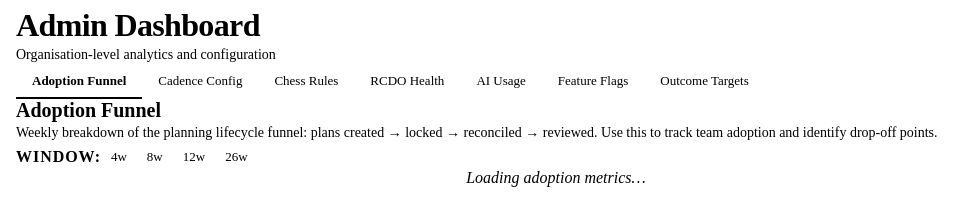
Test case: AdminDashboardPage › shows chess loading state while fetching
Click the tab with test id "admin-tab-chess" at point(306, 81), box [258,63,354,99]
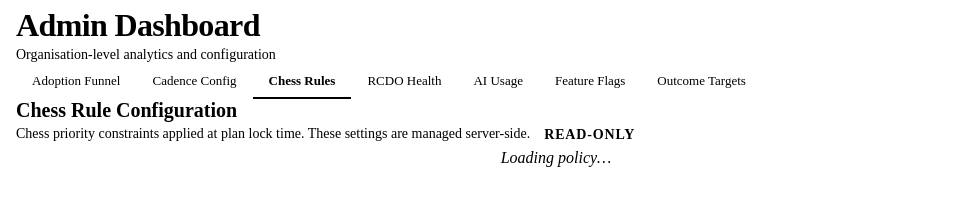
expect the text "Loading policy…" is shown: met, box [501,149,611,166]
